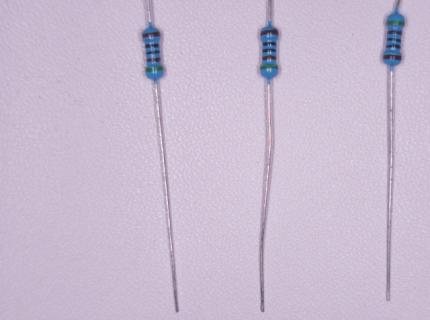Black band: (145, 44, 160, 49), (386, 45, 401, 49), (263, 42, 277, 46), (387, 38, 401, 42), (146, 51, 160, 54), (263, 49, 276, 52)
Brown band: (142, 32, 161, 38), (260, 30, 279, 36), (383, 55, 402, 60), (387, 30, 402, 36), (262, 55, 276, 60), (147, 58, 161, 62)
Green band: (146, 67, 163, 72), (387, 21, 404, 26), (260, 65, 278, 69)
